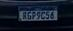Placa_mercosul_carro: (19, 7, 56, 20)
